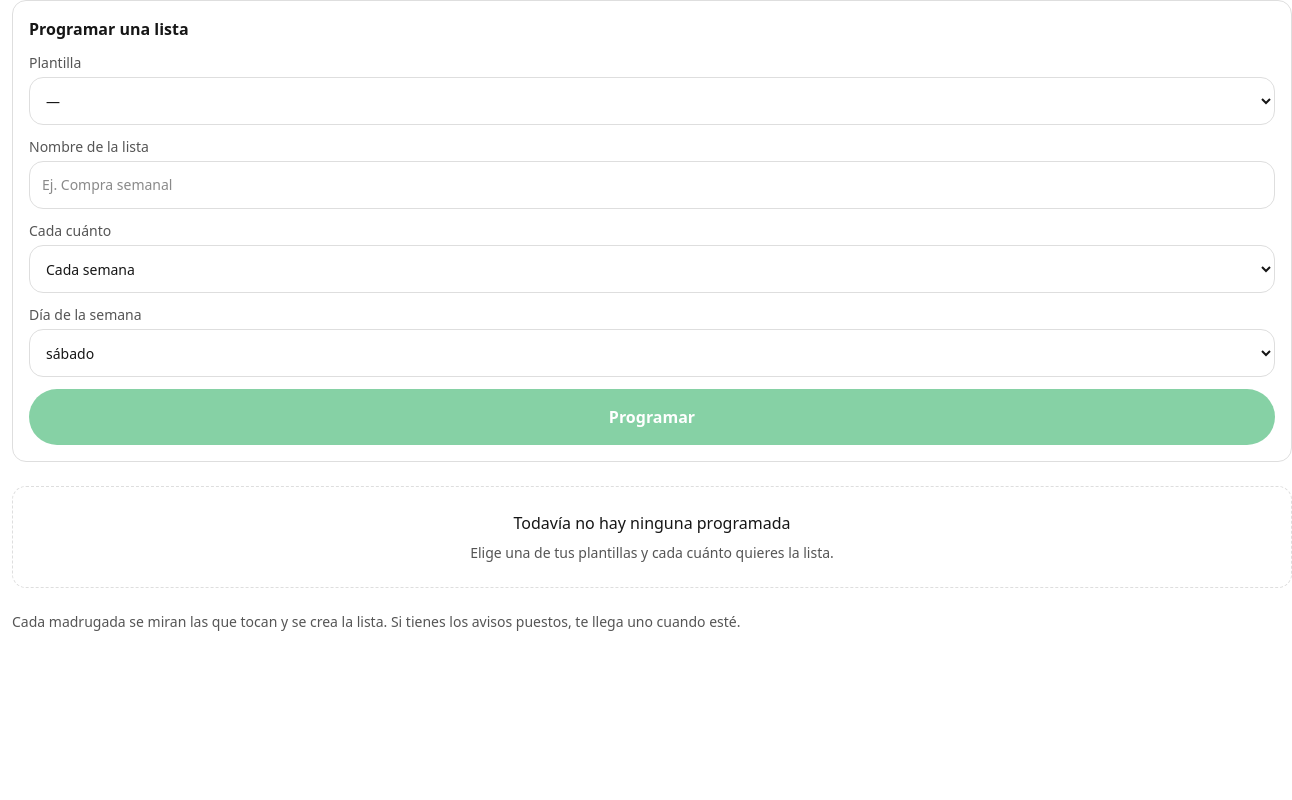
Test case: RecurringClient › al elegir la plantilla propone su nombre para la lista
Select "Compra semanal" in the dropdown labelled "Plantilla": (652, 101) [29, 77, 1275, 125]
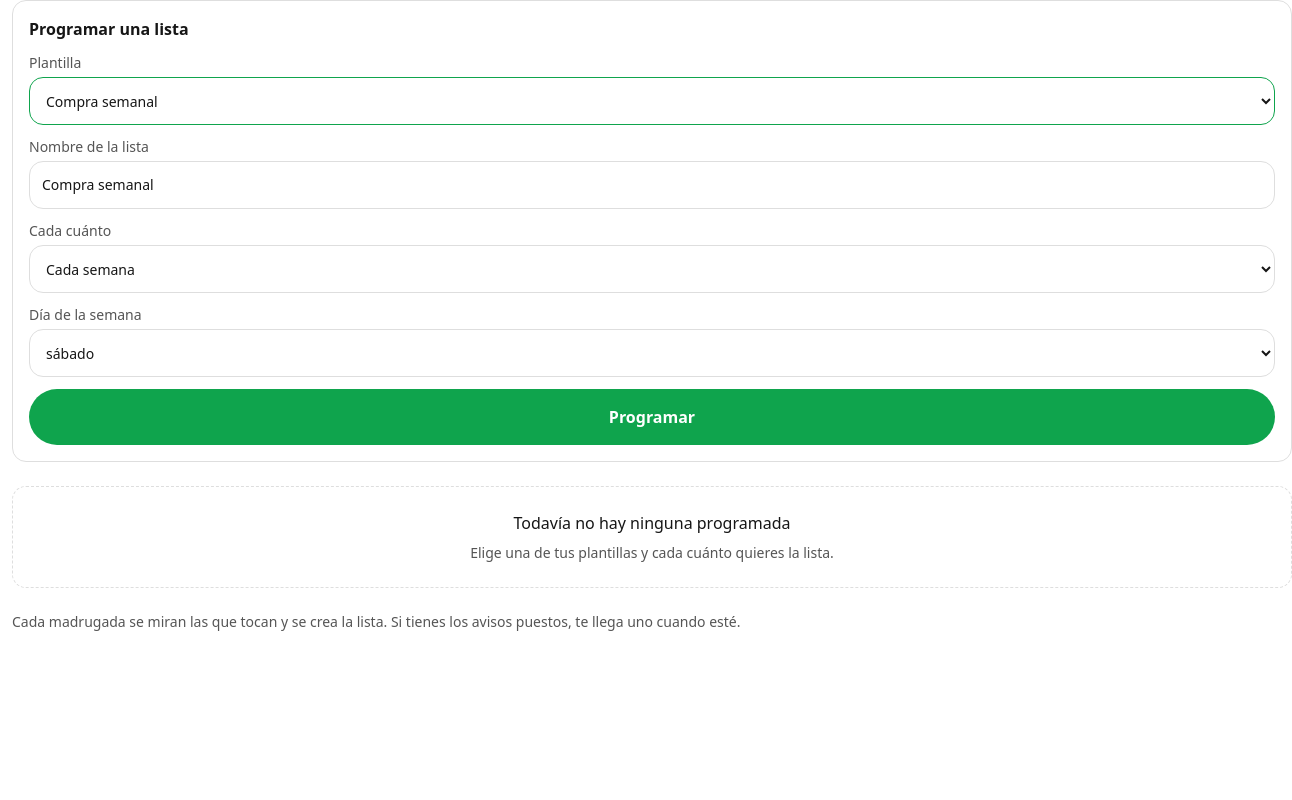
Now the field labelled "Nombre de la lista" holds "Compra semanal", box [29, 161, 1275, 209]
